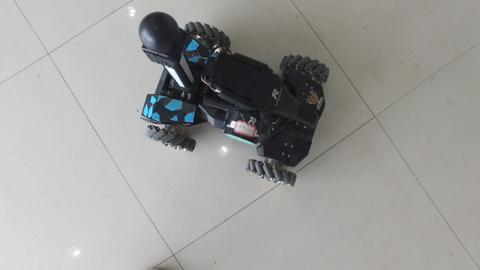chariot: (135, 13, 320, 183)
